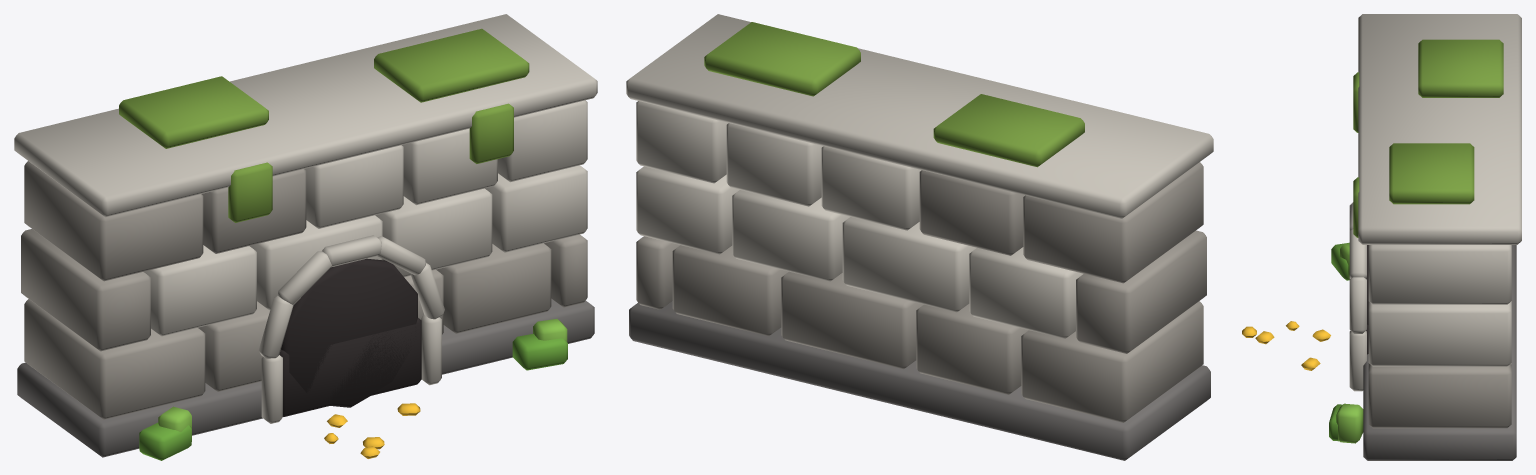
Rendered from B_MedStoneWallHole.fbx.
3 views of the same model, side by side, from view 1: azimuth 30°, elevation 25°; view 2: azimuth 150°, elevation 25°; view 3: azimuth 270°, elevation 25° (orthographic). The views are drawn at different scales.
Visible parts, largest first — view 1: M_StoneWallHole; view 2: M_StoneWallHole; view 3: M_StoneWallHole.
Boxes of the visible parts, <box> form: M_StoneWallHole: <box>14,14,597,460</box>; M_StoneWallHole: <box>626,14,1213,460</box>; M_StoneWallHole: <box>1242,14,1521,460</box>.
Bounding box in the file's own units: 3 × 1.66 × 1.64.
1 material, 1 textured.
